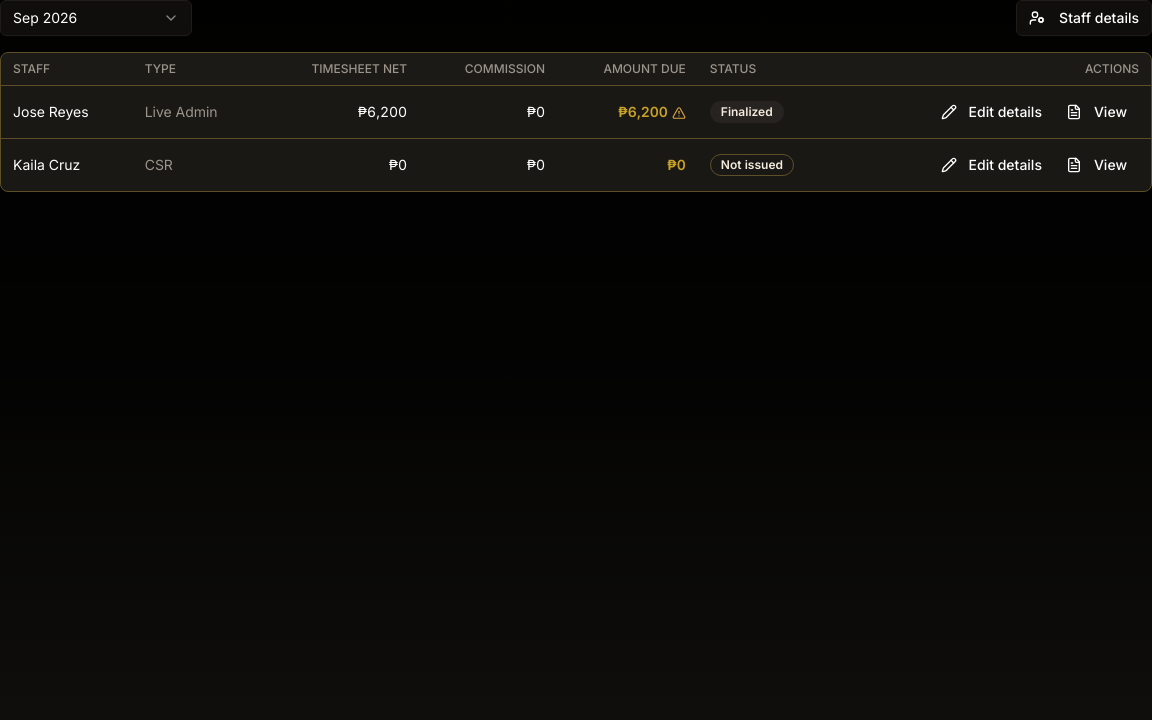
Test case: Payslips tab › a typed yen amount is never overwritten when the rate arrives
Click the button "View" in the row of "Jose Reyes" at point(1096, 112), box [1054,94,1139,130]
(page scrolled)
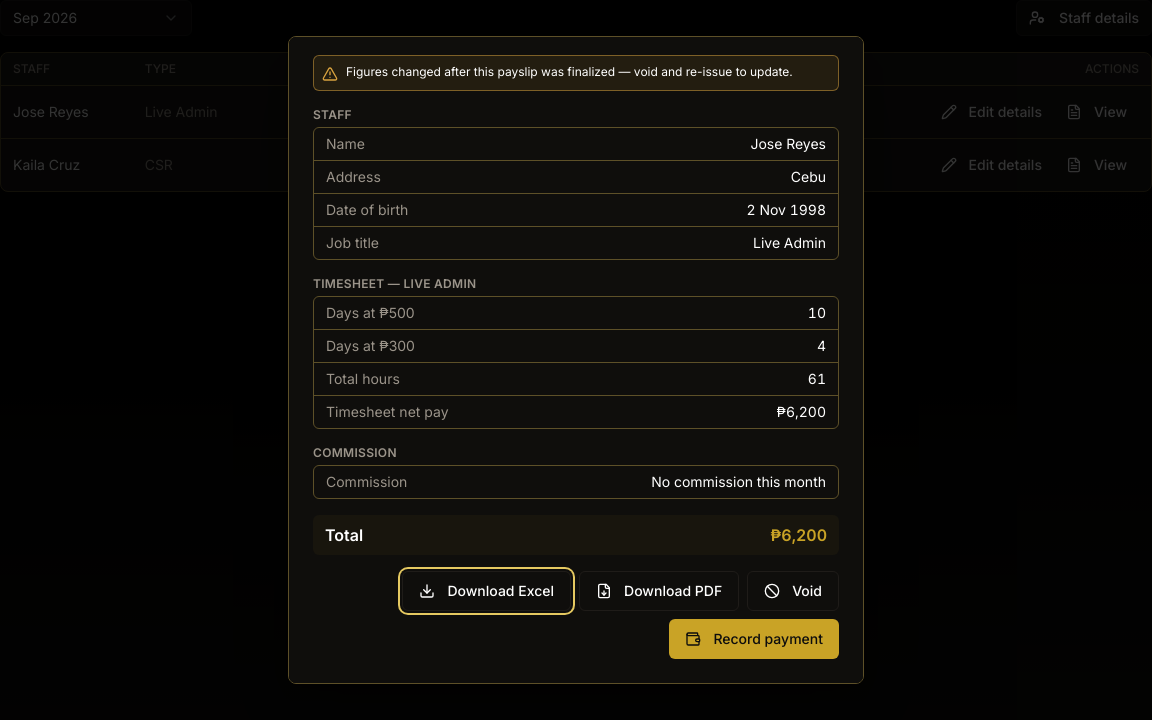
Click the button "Record payment" at point(754, 639), box [669,619,839,659]
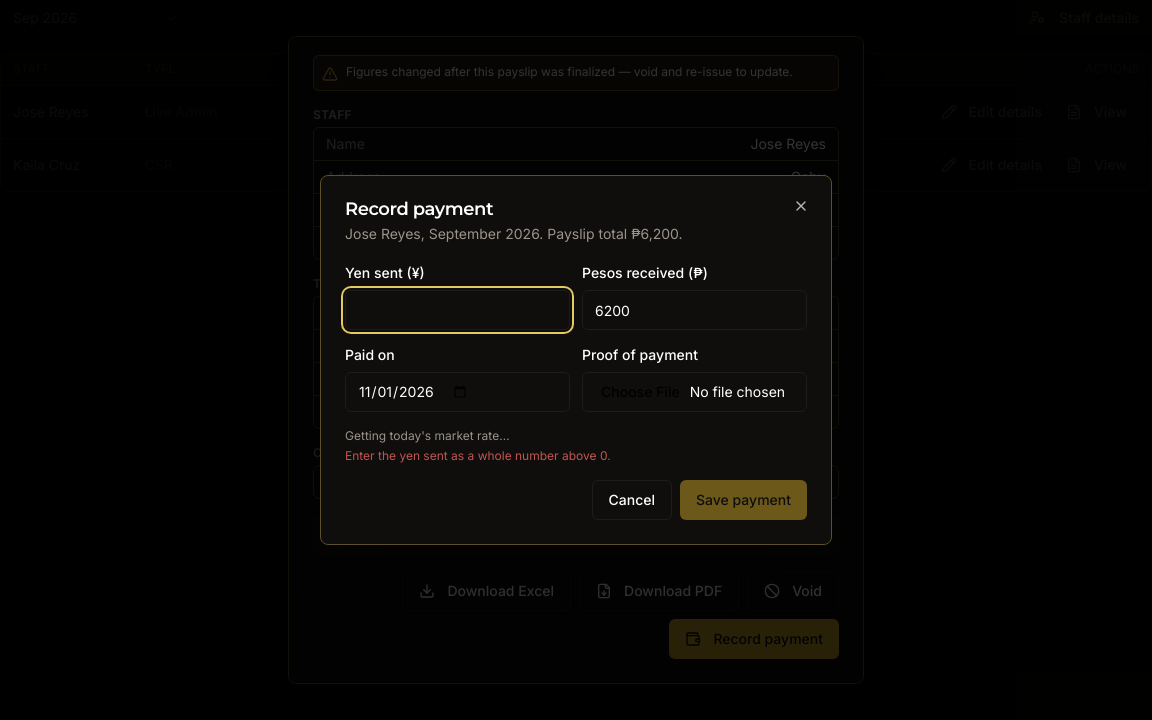
expect the text with test id "market-rate" reads "Getting today's market rate…": met, box [345,428,510,443]
Type "15000" into the field labelled "Yen sent (¥)" at point(458, 310), box [345,290,570,330]
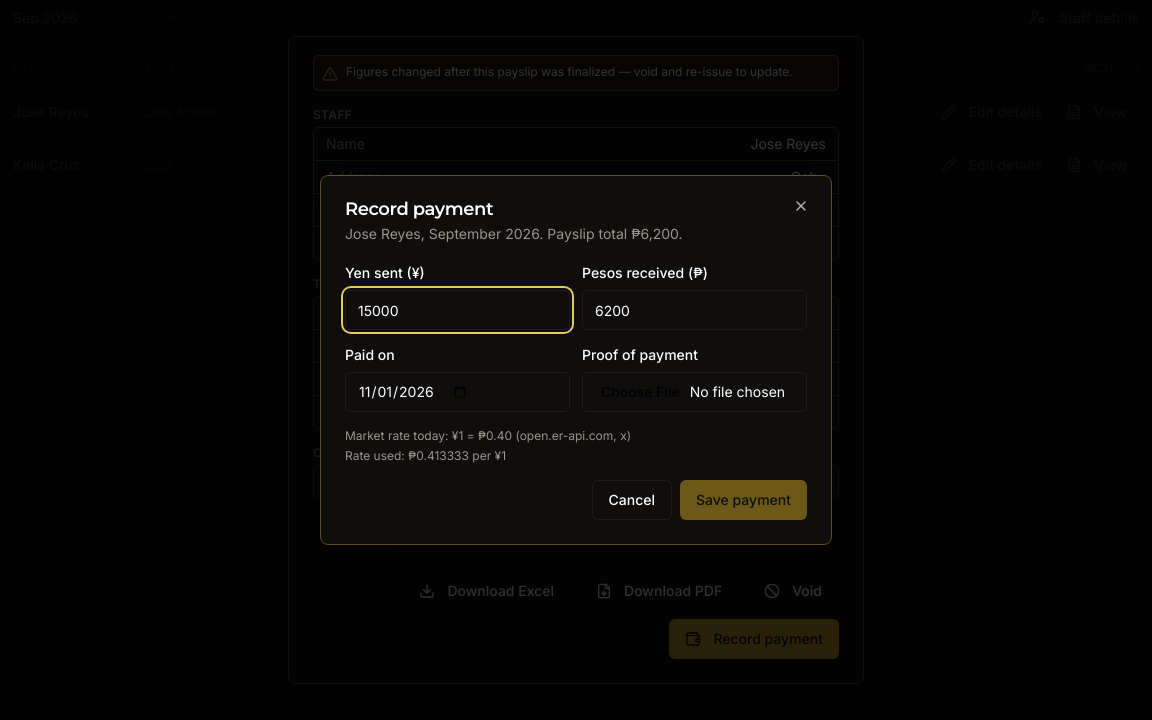
expect the text with test id "market-rate" shows "Market rate today": met, box [345,428,486,443]
